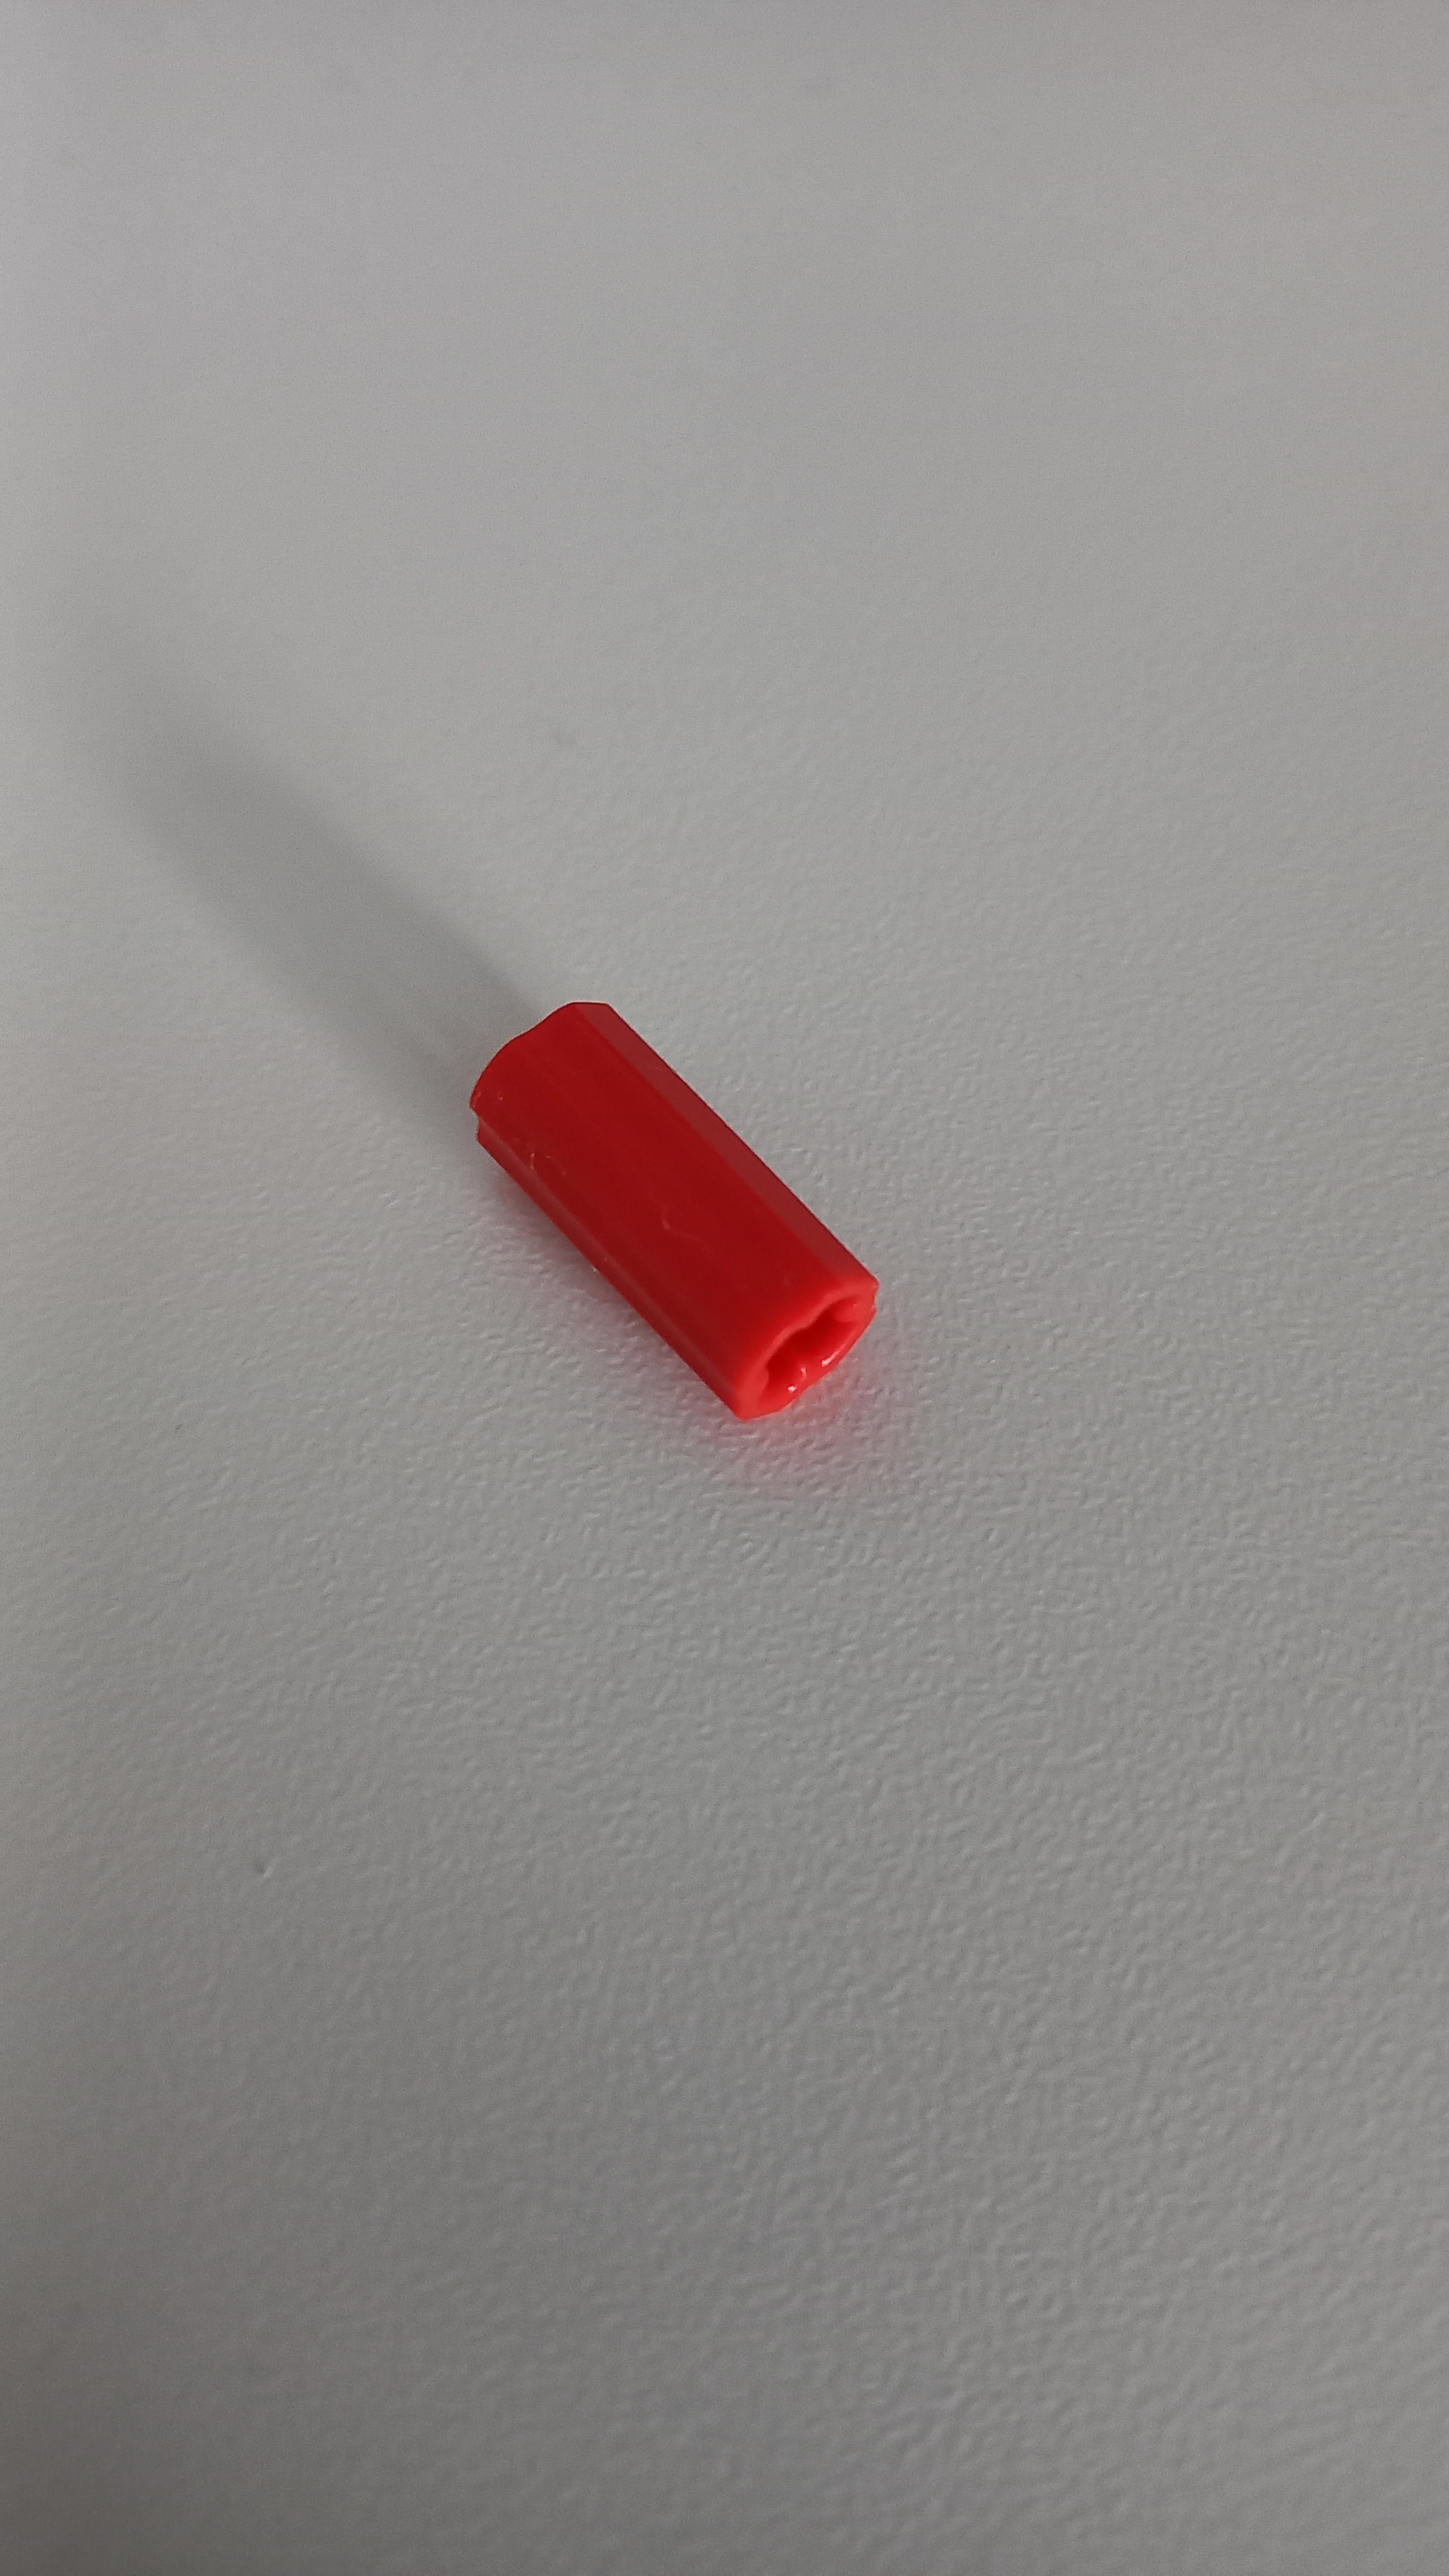Rot: (462, 973, 916, 1468)
